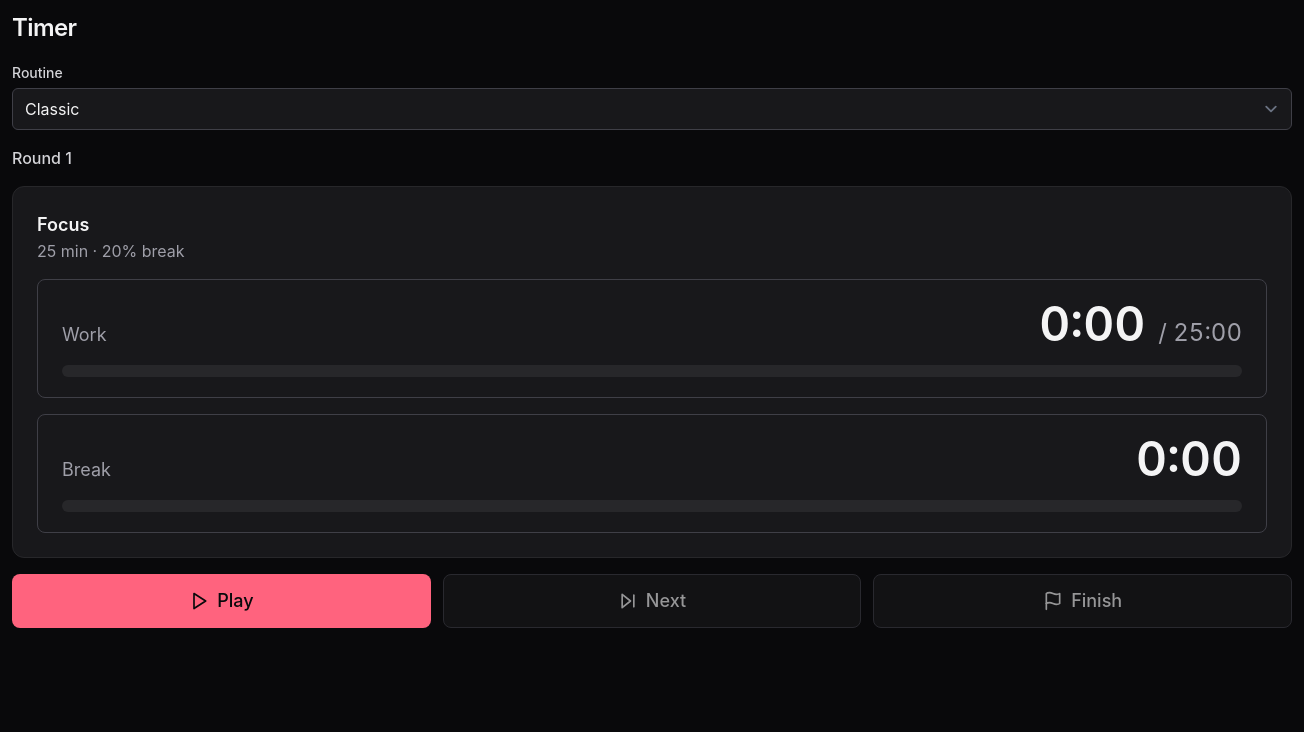
Test case: running a routine from the Timer screen › counts the work up every second once Play is pressed, and locks the picker
Click the button "Play": (221, 601) [12,574,431,628]
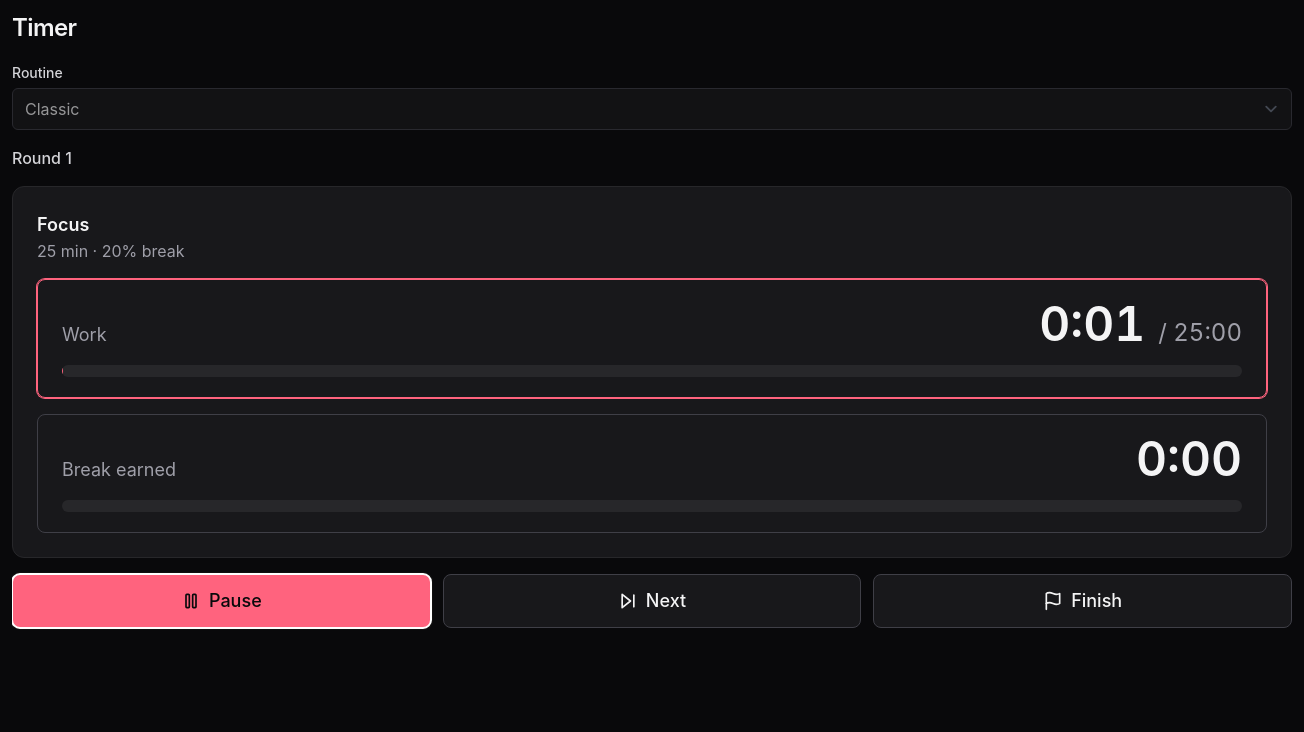
expect the element "Work 0:01 / 25:00" is shown: met, box [37,279,1267,398]
expect the button "Pause" is shown: met, box [12,574,431,628]
expect the dropdown labelled "Routine" is disabled: met, box [12,88,1292,130]
